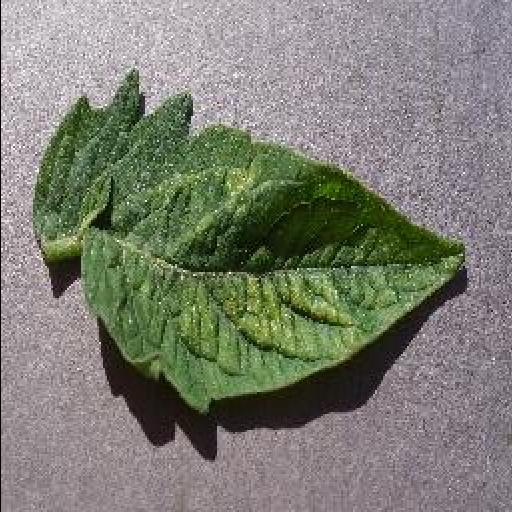disease_tomato: (31, 68, 465, 414)
